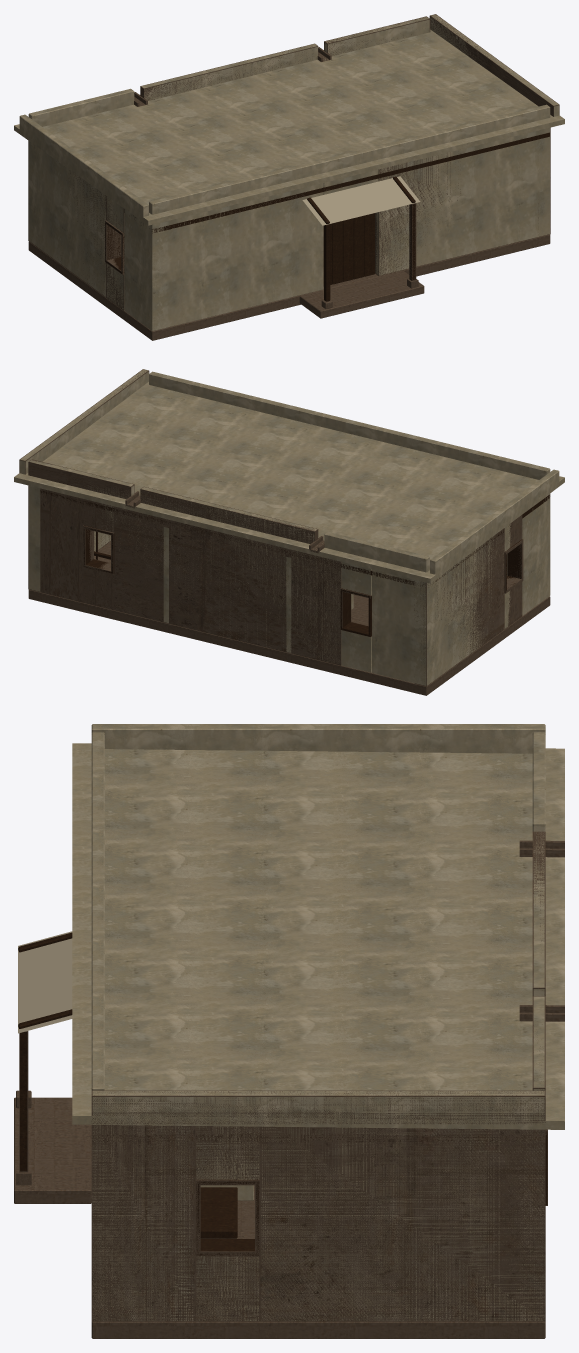
File: d_halberd_house.glb
3 renders of one model, top to bottom at view 1: azimuth 30°, elevation 25°; view 2: azimuth 150°, elevation 25°; view 3: azimuth 270°, elevation 25°, orthographic. The views are drawn at different scales.
Parts seen in each view (by area): view 1: front wall, foundation, window jamb, entry shade, front wall-colonly.001, side parapet-colonly.001, rear parapet-colonly.001, Door plank.003, Door plank.001, Door plank.002, Door plank.004, side wall-colonly.001 (+4 smaller); view 2: front wall, rear wall-colonly.001, foundation, rear wall-colonly.002, side wall-colonly.001, window jamb, rear parapet-colonly.001, rear parapet-colonly.002, window sill wall-colonly.001, window head wall-colonly.001, window sill wall-colonly.002, side parapet-colonly.001; view 3: front wall, side wall-colonly.003, side wall-colonly.002, foundation, side parapet-colonly.001, window sill wall-colonly.003, entry shade, front wall-colonly.001, window jamb, window head wall-colonly.003, bed frame, rear parapet-colonly.001 (+1 smaller).
Boxes of the visible parts, <box> form: front wall: <box>14,14,564,331</box>; foundation: <box>28,47,550,340</box>; window jamb: <box>105,132,549,301</box>; entry shade: <box>302,176,420,225</box>; front wall-colonly.001: <box>375,127,550,276</box>; side parapet-colonly.001: <box>429,14,559,116</box>; rear parapet-colonly.001: <box>140,43,318,100</box>; Door plank.003: <box>353,215,364,279</box>; Door plank.001: <box>332,221,342,284</box>; Door plank.002: <box>343,218,353,281</box>; Door plank.004: <box>364,213,374,276</box>; side wall-colonly.001: <box>28,141,106,297</box>; front wall: <box>14,369,564,685</box>; rear wall-colonly.001: <box>114,506,341,665</box>; foundation: <box>28,491,550,695</box>; rear wall-colonly.002: <box>28,487,83,602</box>; side wall-colonly.001: <box>414,528,504,686</box>; window jamb: <box>40,490,550,636</box>; rear parapet-colonly.001: <box>140,486,318,543</box>; rear parapet-colonly.002: <box>28,459,134,498</box>; window sill wall-colonly.001: <box>83,567,114,610</box>; window head wall-colonly.001: <box>83,499,114,532</box>; window sill wall-colonly.002: <box>505,582,522,628</box>; side parapet-colonly.001: <box>19,369,149,474</box>; front wall: <box>72,724,564,1320</box>; side wall-colonly.003: <box>260,1126,545,1321</box>; side wall-colonly.002: <box>91,1125,195,1321</box>; foundation: <box>14,840,564,1338</box>; side parapet-colonly.001: <box>91,1090,545,1124</box>; window sill wall-colonly.003: <box>195,1256,260,1321</box>; entry shade: <box>18,931,72,1033</box>; front wall-colonly.001: <box>91,1125,117,1321</box>; window jamb: <box>18,932,547,1255</box>; window head wall-colonly.003: <box>195,1126,260,1179</box>; bed frame: <box>200,1187,237,1238</box>; rear parapet-colonly.001: <box>532,831,545,996</box>.
Size of what is drawn, in the model's own units: 13.6 by 4.28 by 8.5.
6 materials, 3 textured.
